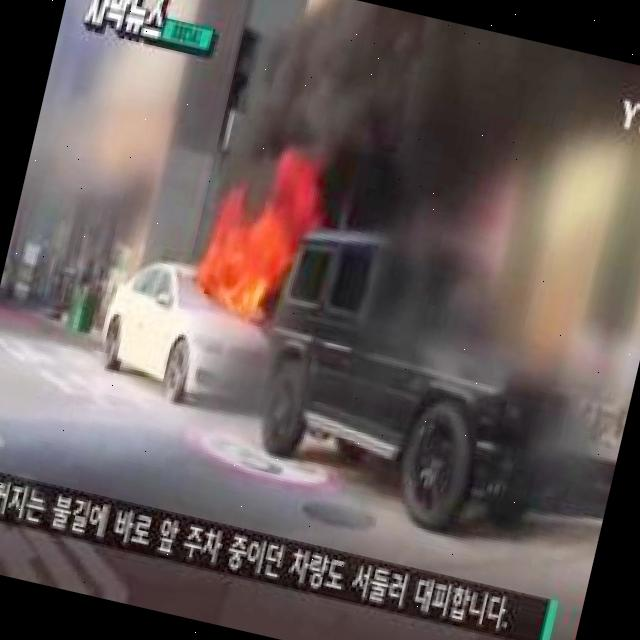fire: (200, 154, 316, 322)
